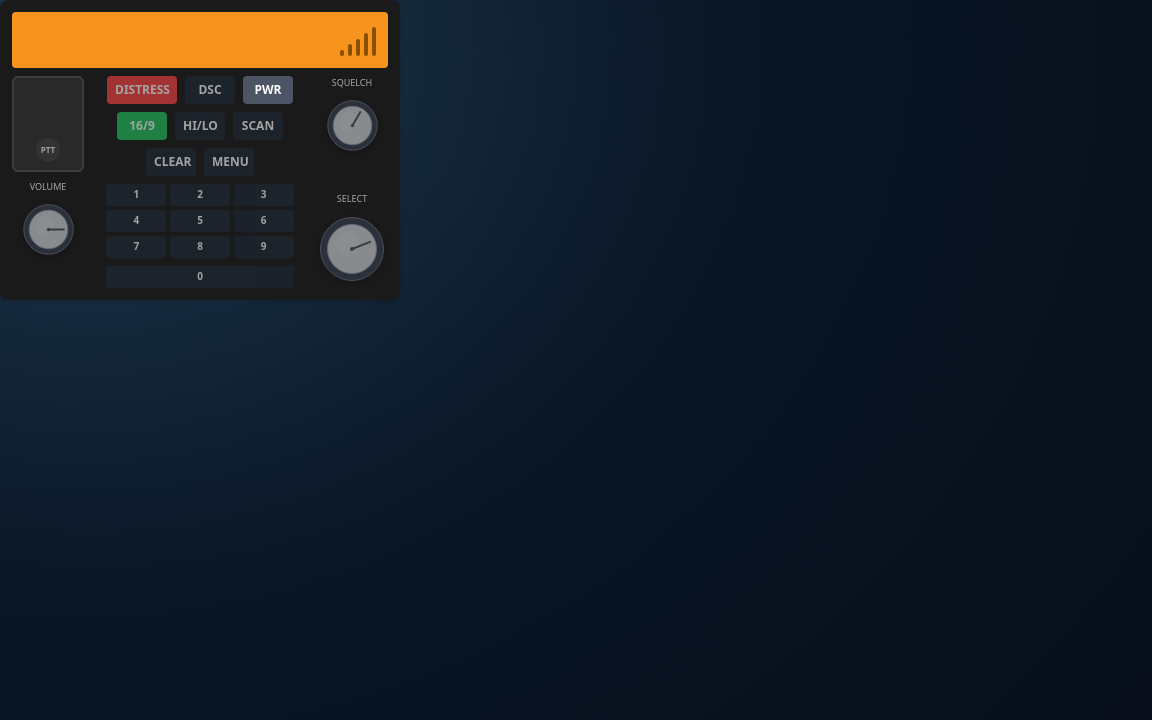
it: MarineRadio › toggles scan mode and advances channels
Click the button "PWR". click: {"x": 268, "y": 90}
box: x1=243 y1=76 x2=293 y2=104
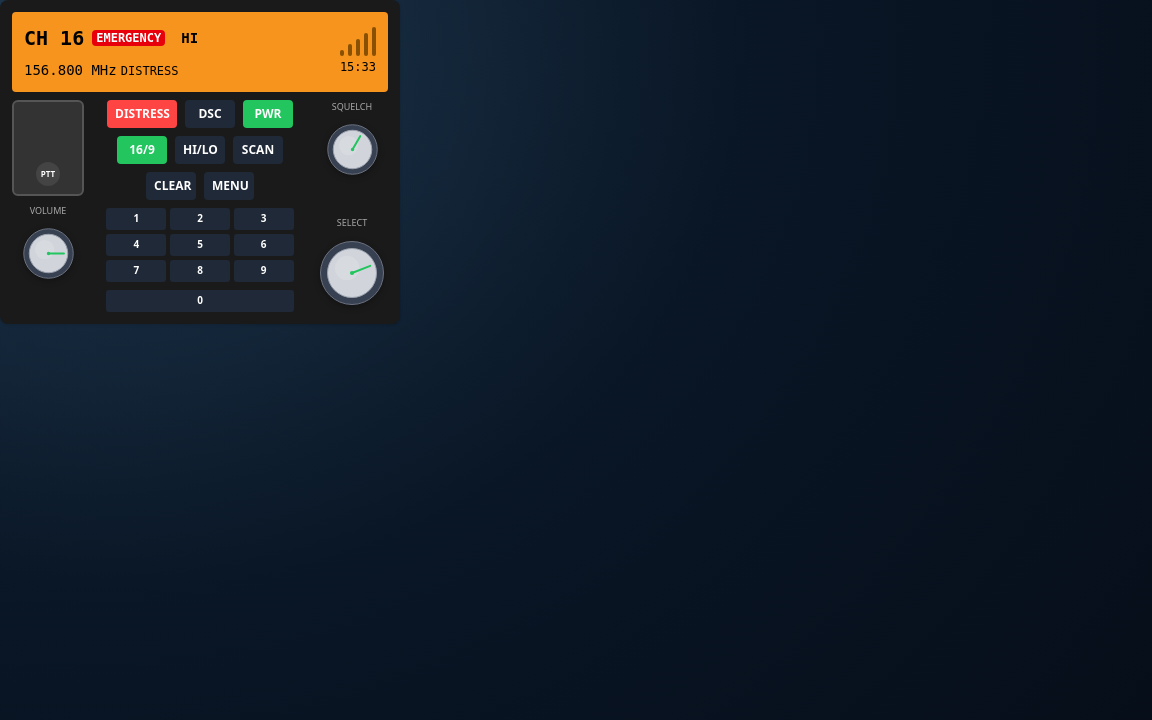
Click the button "SCAN". click: {"x": 258, "y": 150}
box: x1=233 y1=136 x2=283 y2=164
Wait 2000 ms
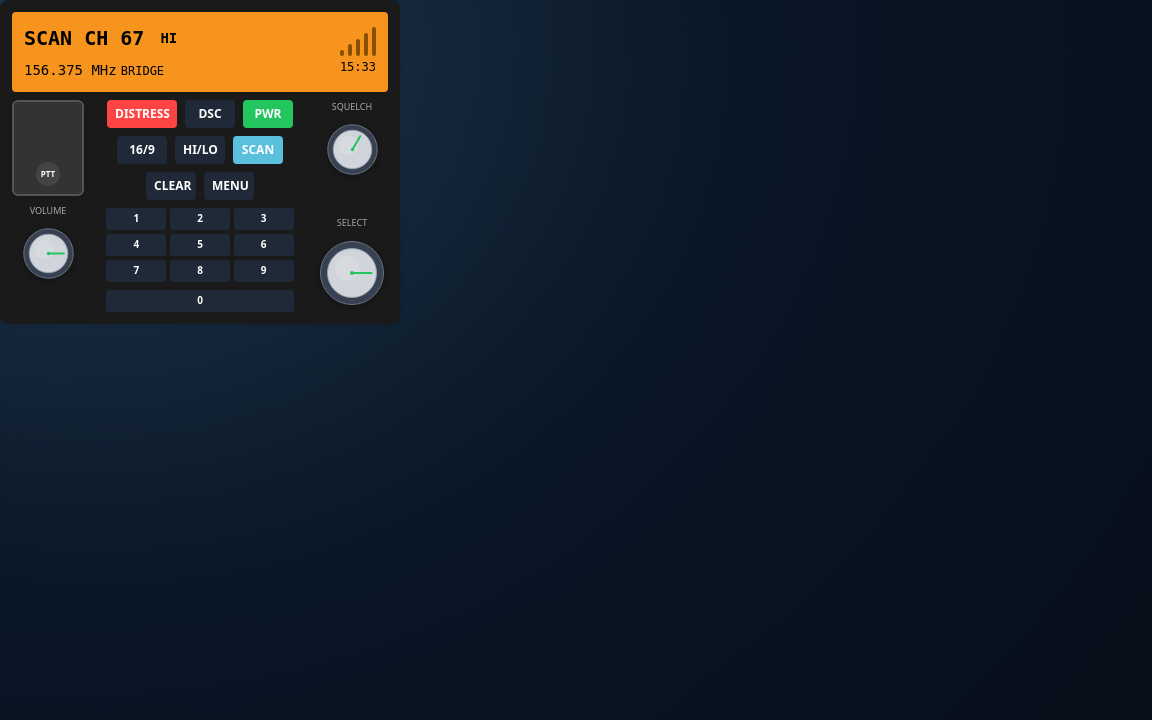
expect the text "SCAN CH 67 HI" is shown: met, box x1=24 y1=24 x2=177 y2=52
